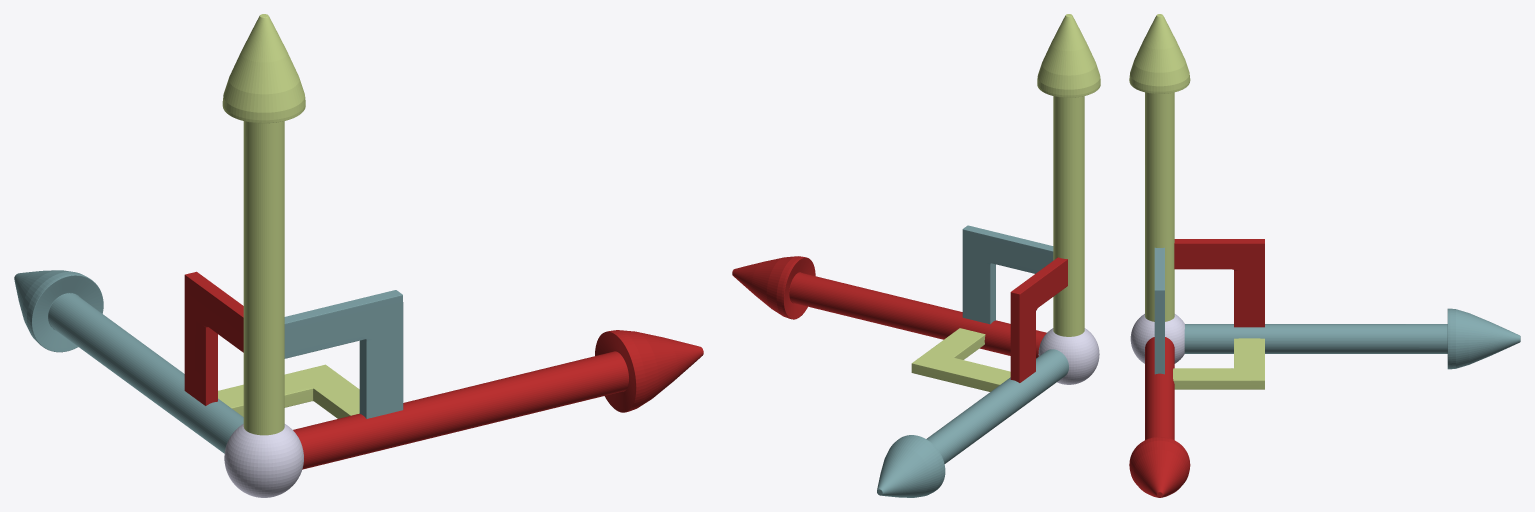
File: gizmo.fbx
3 views of the same model, side by side, from view 1: azimuth 30°, elevation 25°; view 2: azimuth 150°, elevation 25°; view 3: azimuth 270°, elevation 25° (orthographic). The views are drawn at different scales.
Visible parts, largest first — view 1: Gismo; view 2: Gismo; view 3: Gismo.
Part boxes in pixels (x1=…): Gismo: x1=14, y1=14, x2=703, y2=497; Gismo: x1=732, y1=14, x2=1100, y2=497; Gismo: x1=1129, y1=14, x2=1520, y2=497.
Size of the model in its own units: 159 by 154 by 156.
4 materials, 3 textured.
